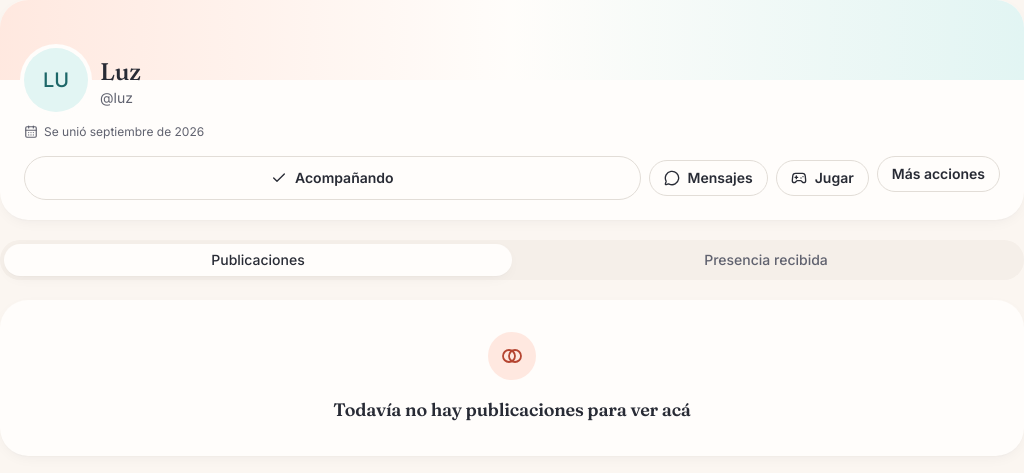
it: ProfilePage › labels an existing follow as Acompañando and can unfollow
Click the button "Acompañando" at (332, 178), box [24,156,641,200]
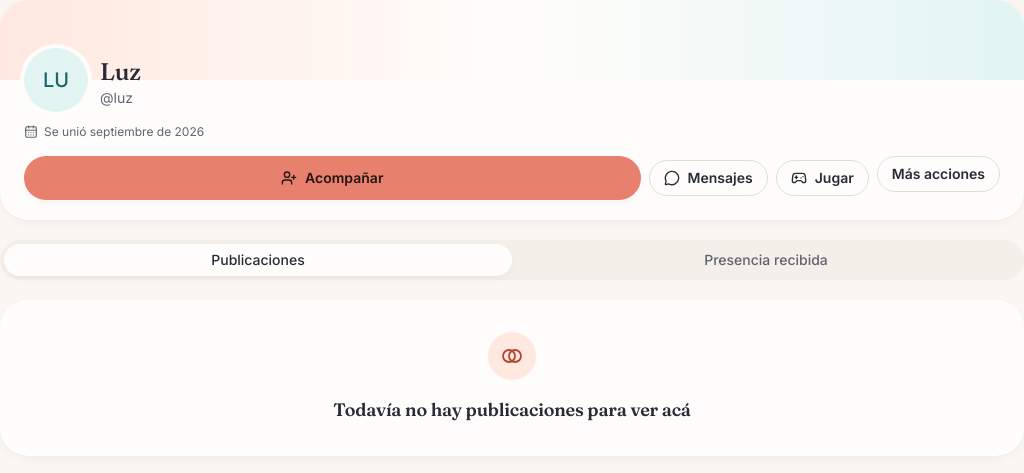
Result: the button "Acompañar" is shown at [24,156,641,200]
